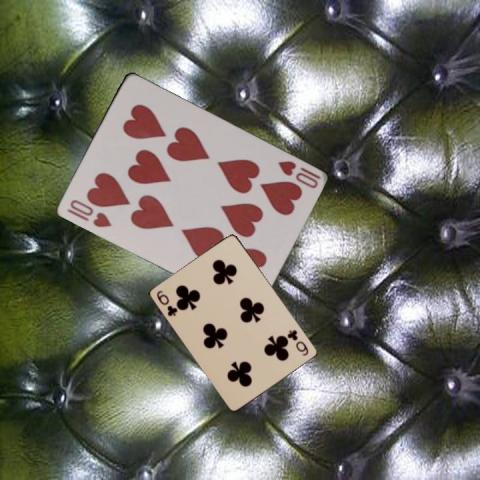10h: (63, 196, 113, 229), (274, 157, 322, 190)
6c: (154, 287, 179, 318), (285, 327, 310, 357)
